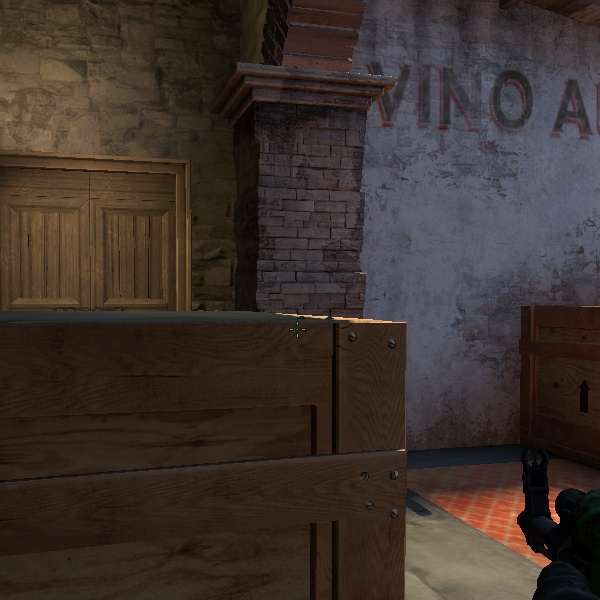t_body: (252, 0, 302, 65)
